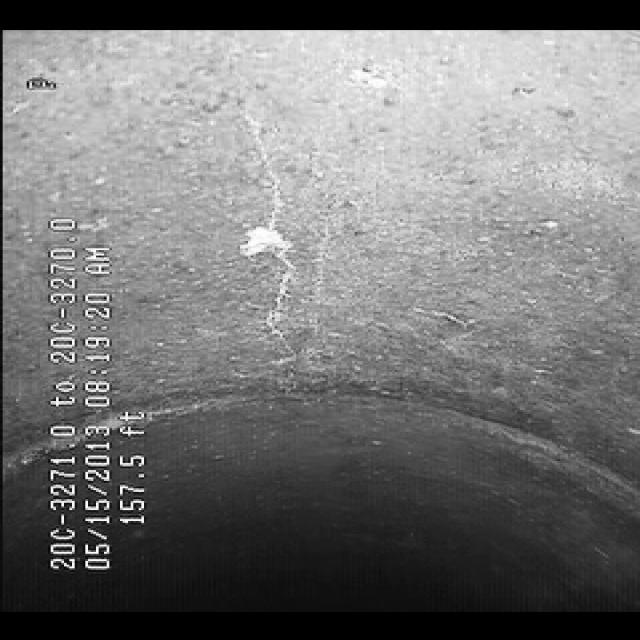Crack: (232, 97, 309, 371)
